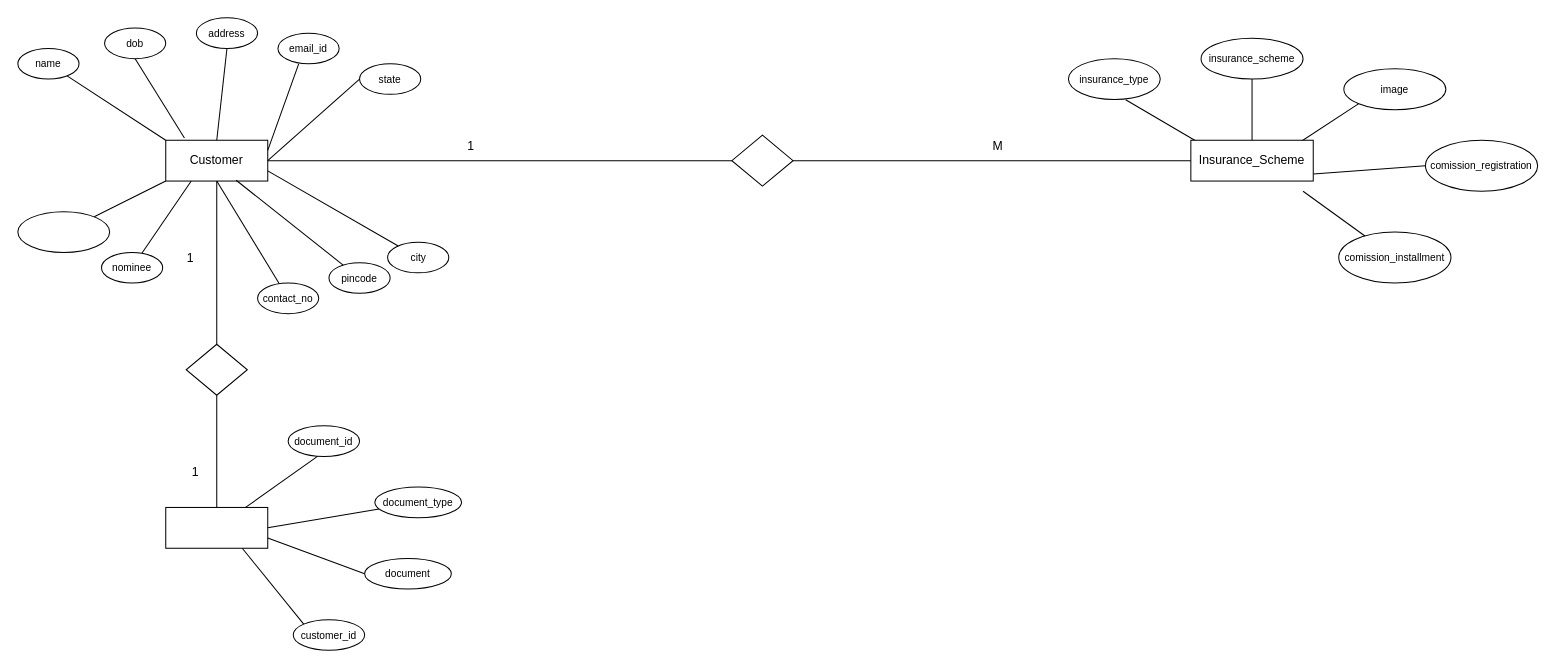
This 1556x668 diagram has some shape labels left out. Here are the shapes that lost their labels. From the top down, the box of each, then its label:
(731, 134, 793, 186): buy
(17, 211, 110, 252): nominee_relation
(185, 343, 247, 395): has
(165, 506, 268, 548): Documents
